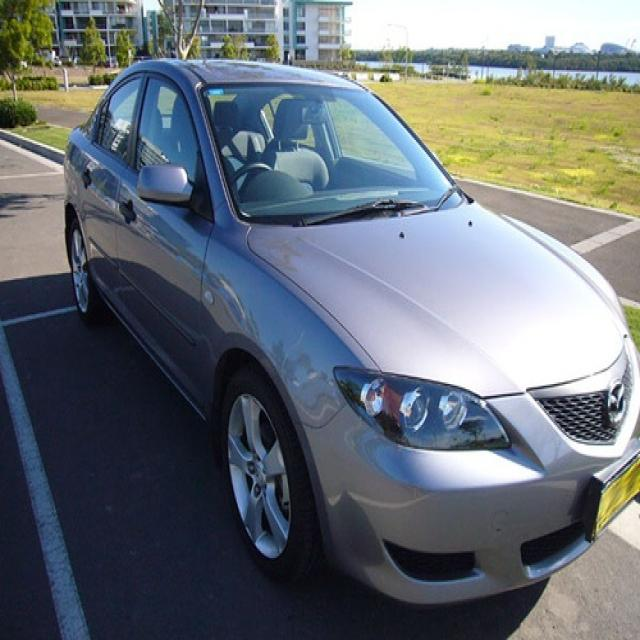car: (62, 58, 638, 611)
